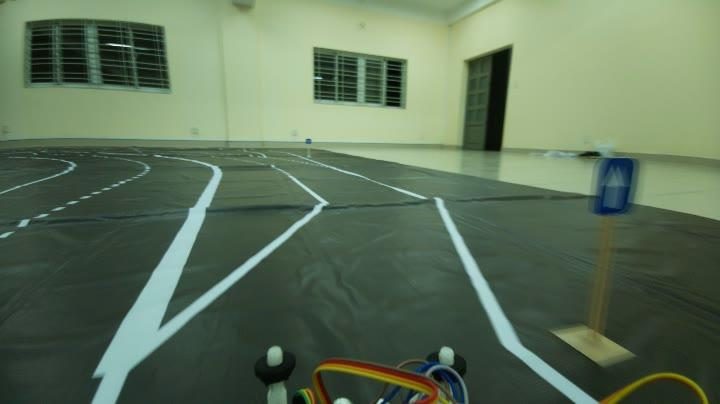onewayroad: (586, 154, 644, 218)
